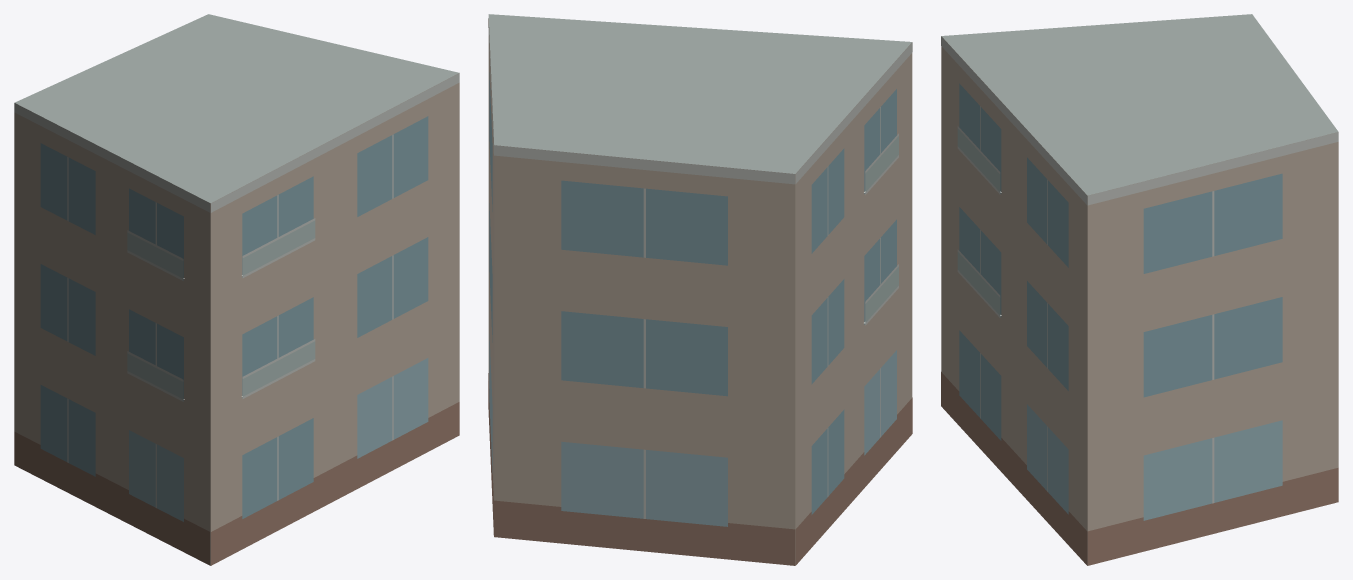
Rendered from survey-upis-32934222.glb.
The picture shows the model from 3 angles, left to right: view 1: azimuth 30°, elevation 25°; view 2: azimuth 150°, elevation 25°; view 3: azimuth 270°, elevation 25°; orthographic projection. The views are drawn at different scales.
Visible parts, largest first — view 1: survey-upis-32934222.tmp; view 2: survey-upis-32934222.tmp; view 3: survey-upis-32934222.tmp.
Boxes of the visible parts, x1,y1,x2,y2 form: survey-upis-32934222.tmp: (14,14,459,565); survey-upis-32934222.tmp: (488,14,912,565); survey-upis-32934222.tmp: (941,14,1338,565).
Bounding box in the file's own units: 9.64 × 9.15 × 8.91.
